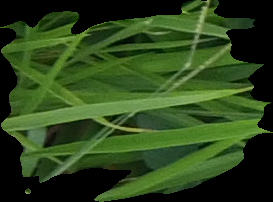grass: (1, 1, 271, 200)
